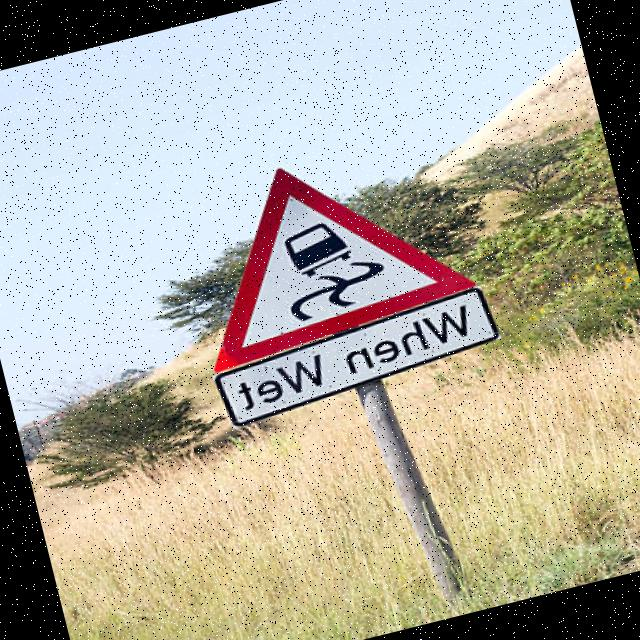road_slippery: (150, 122, 484, 375)
